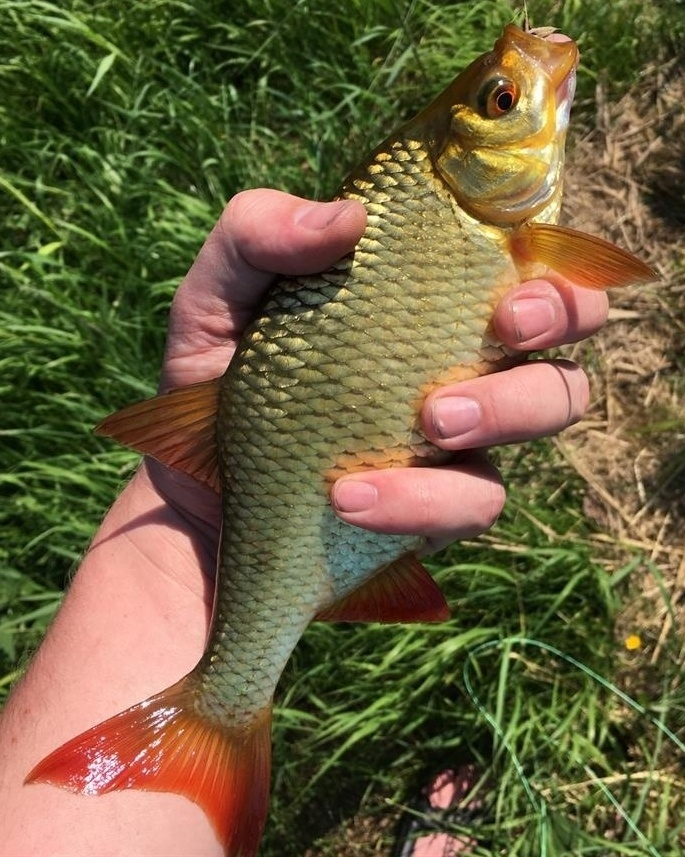Scardinius erythrophthalmus: (20, 20, 665, 857)
